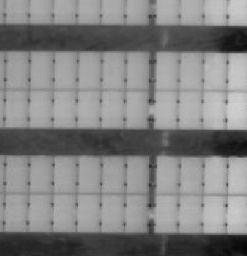solar: (2, 48, 32, 90), (27, 49, 57, 91), (51, 49, 81, 91), (74, 49, 104, 91), (97, 49, 127, 91), (122, 49, 152, 91), (153, 49, 183, 91), (176, 50, 206, 92), (199, 50, 229, 92), (199, 88, 229, 130), (175, 88, 205, 130), (150, 88, 180, 130), (123, 88, 153, 130), (97, 88, 127, 130), (73, 88, 103, 130), (49, 88, 79, 130), (25, 88, 55, 130), (1, 88, 31, 130), (2, 153, 32, 195), (25, 153, 55, 195), (50, 153, 80, 195), (75, 153, 105, 195), (98, 153, 128, 195), (122, 153, 152, 195), (153, 154, 183, 196), (176, 154, 206, 196), (200, 154, 230, 196), (199, 192, 229, 234), (175, 192, 205, 234), (150, 192, 180, 234), (120, 192, 150, 234), (97, 192, 127, 234), (72, 193, 102, 235), (49, 192, 79, 234), (25, 191, 55, 233), (1, 191, 31, 233)
